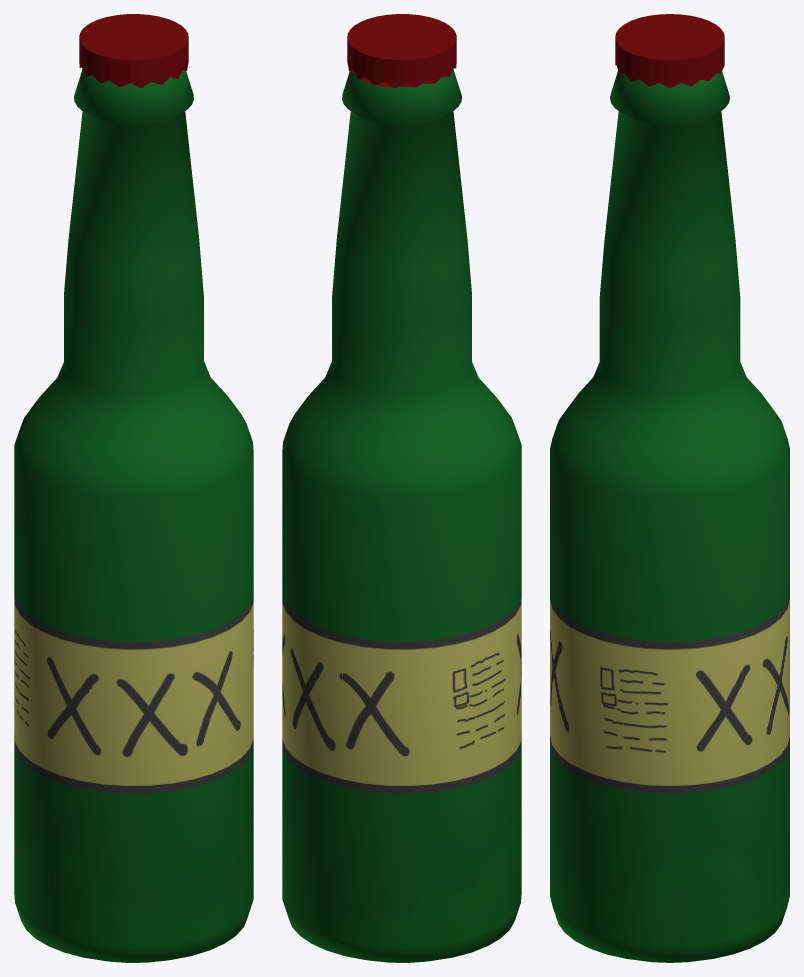
Rendered from Beer-Throw.fbx.
The picture shows the model from 3 angles, left to right: view 1: azimuth 30°, elevation 25°; view 2: azimuth 150°, elevation 25°; view 3: azimuth 270°, elevation 25°; orthographic projection.
Visible parts, largest first — view 1: Cylinder.001; view 2: Cylinder.001; view 3: Cylinder.001.
Boxes of the visible parts, box(x1,y1,x2,y2) form: Cylinder.001: box(14, 14, 253, 962); Cylinder.001: box(282, 14, 521, 962); Cylinder.001: box(550, 14, 789, 962).
Bounding box in the file's own units: 221 × 904 × 221.
Materials: 2 (1 with a texture image).
